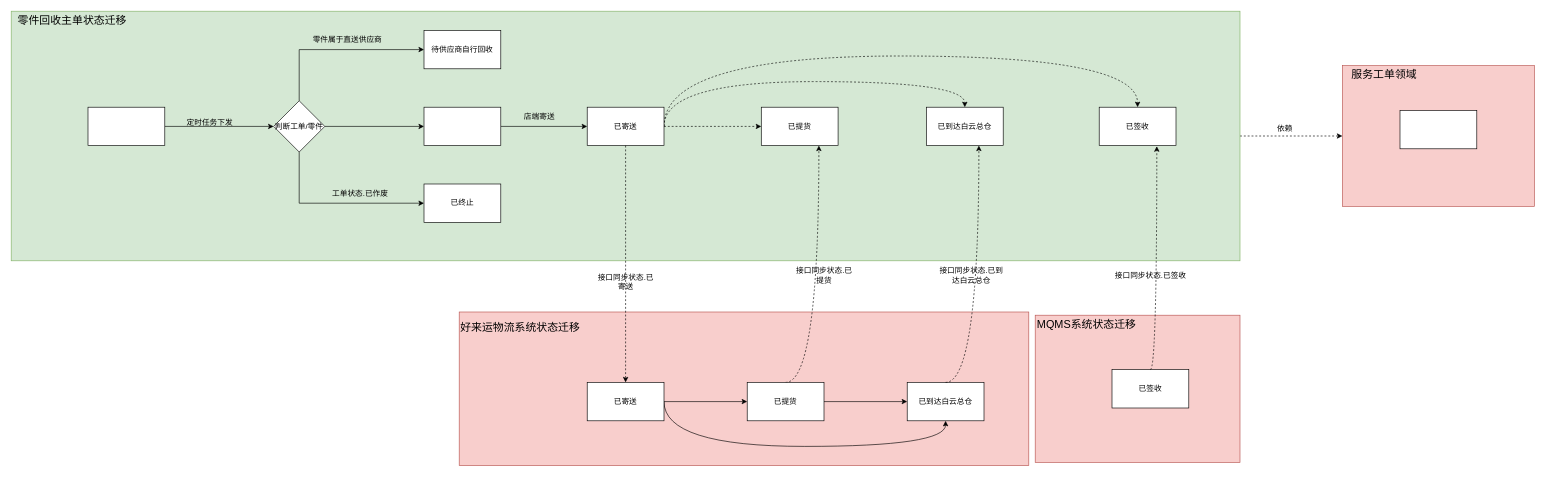
The diagram is 1546 pixels wide and 477 high, and some of its shapes have lost their labels. The shapes that lost their labels are listed below. From the top down, each one's box as (x1, y1, x2, y2) in pixels, then its label:
(87, 107, 165, 146): 待下发
(423, 107, 501, 146): 待寄送
(1399, 110, 1477, 149): 工单主信息
